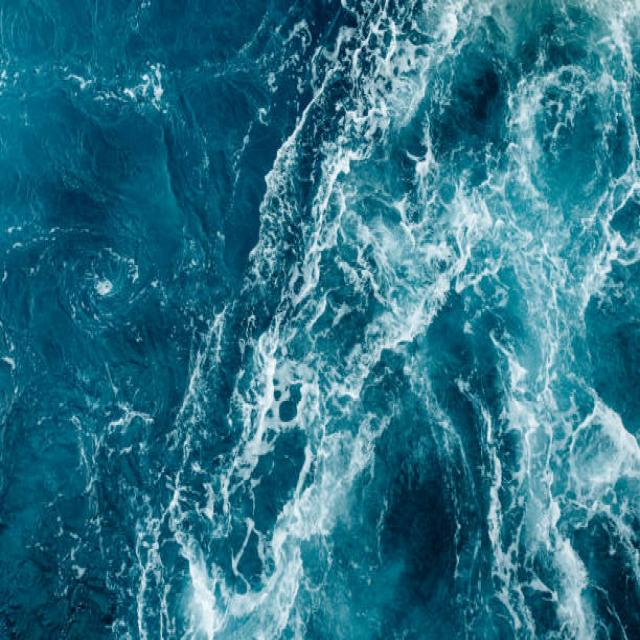no-oil: (24, 27, 621, 631)
